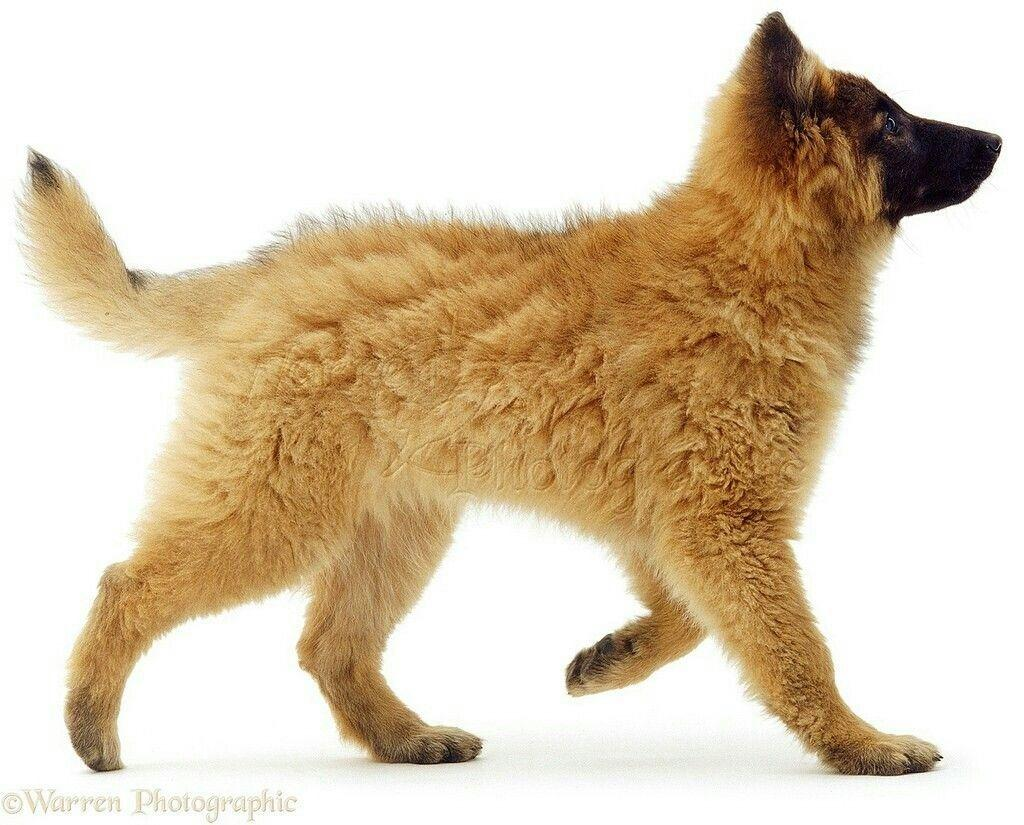puppy-dog: (12, 8, 1002, 775)
